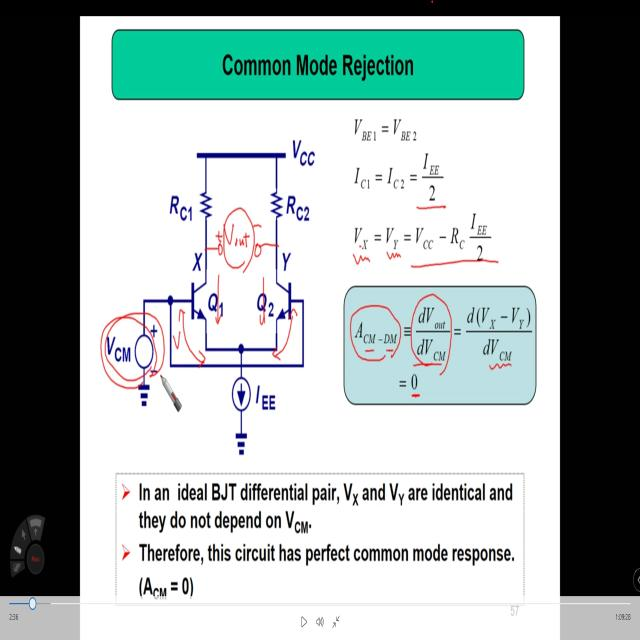panseo: (207, 206, 279, 279)
